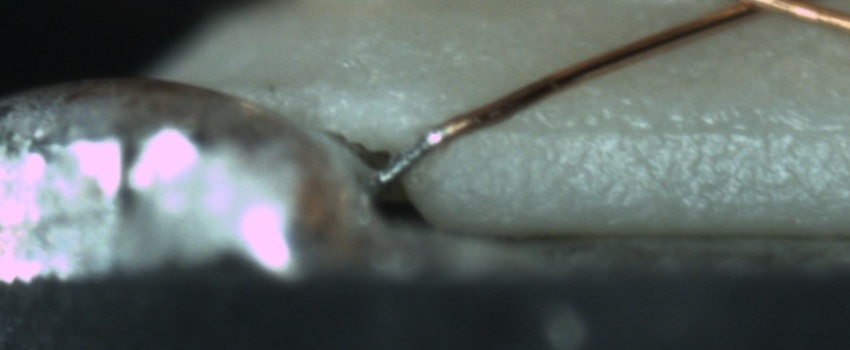CL: (719, 0, 827, 20)
DL: (439, 98, 849, 162)
TS: (377, 128, 446, 186)
TTCW: (373, 108, 482, 189)
